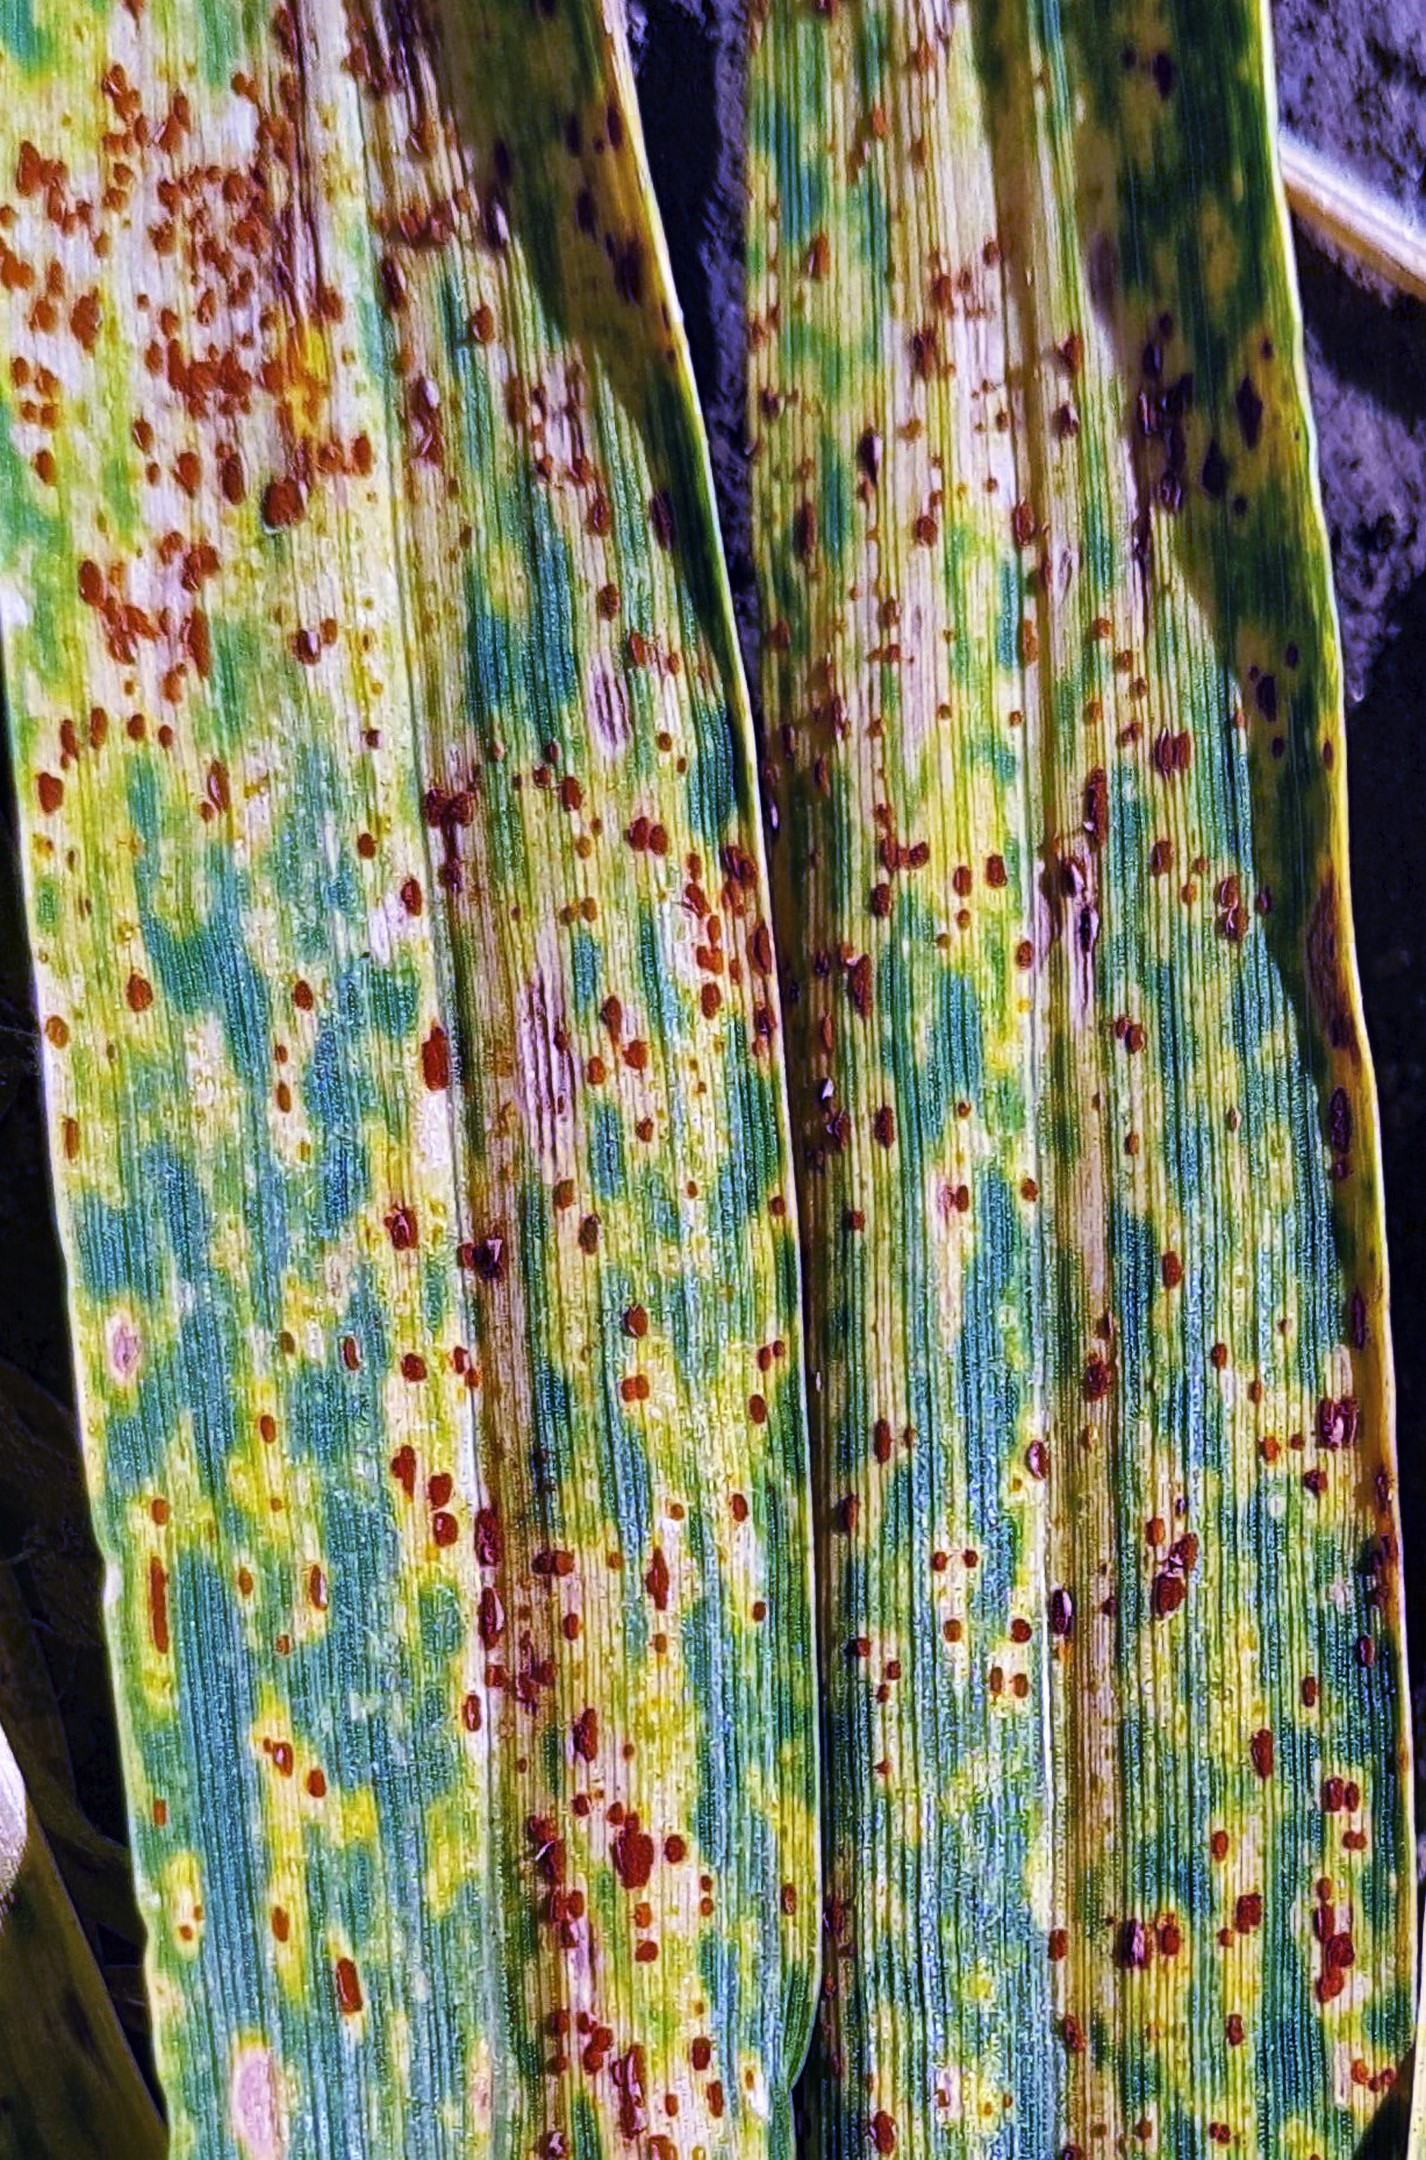Leaf Rust: (2, 75, 832, 2042), (886, 341, 1426, 2133)
